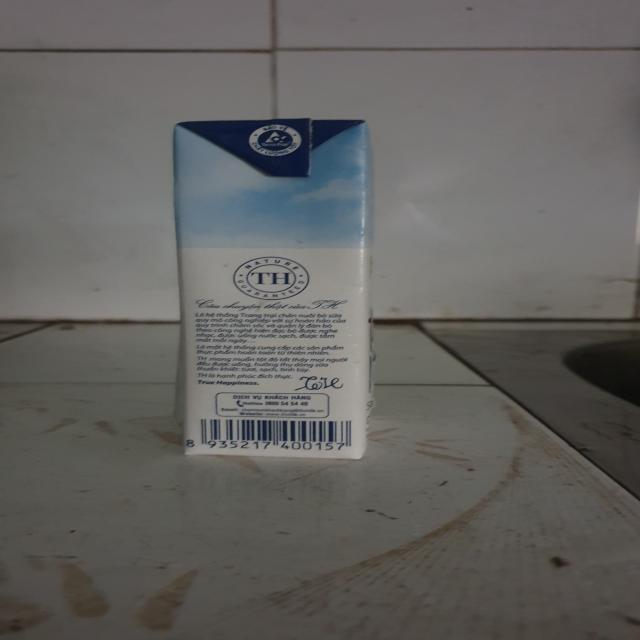TH: (177, 122, 372, 461)
